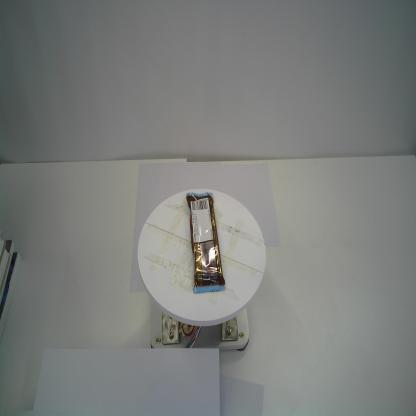Chocolate: (186, 188, 226, 296)
